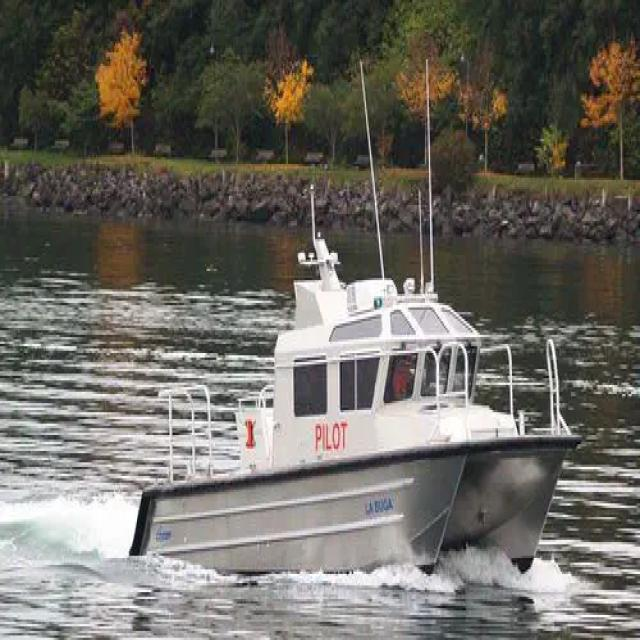houseboat: (134, 224, 574, 594)
